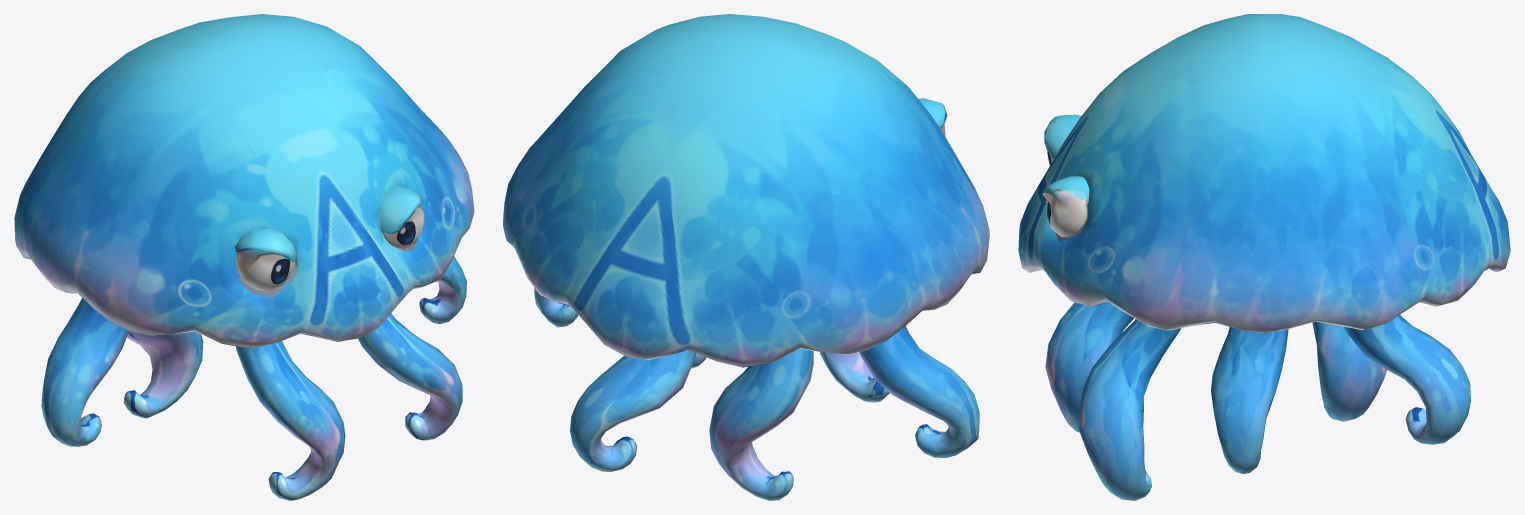
Rendered from Jellyfish.glb.
3 renders of one model, left to right at view 1: azimuth 30°, elevation 25°; view 2: azimuth 150°, elevation 25°; view 3: azimuth 270°, elevation 25°, orthographic. The views are drawn at different scales.
Bounding box in the file's own units: 1 × 0.9258 × 0.9961.
1 material, 1 textured.
